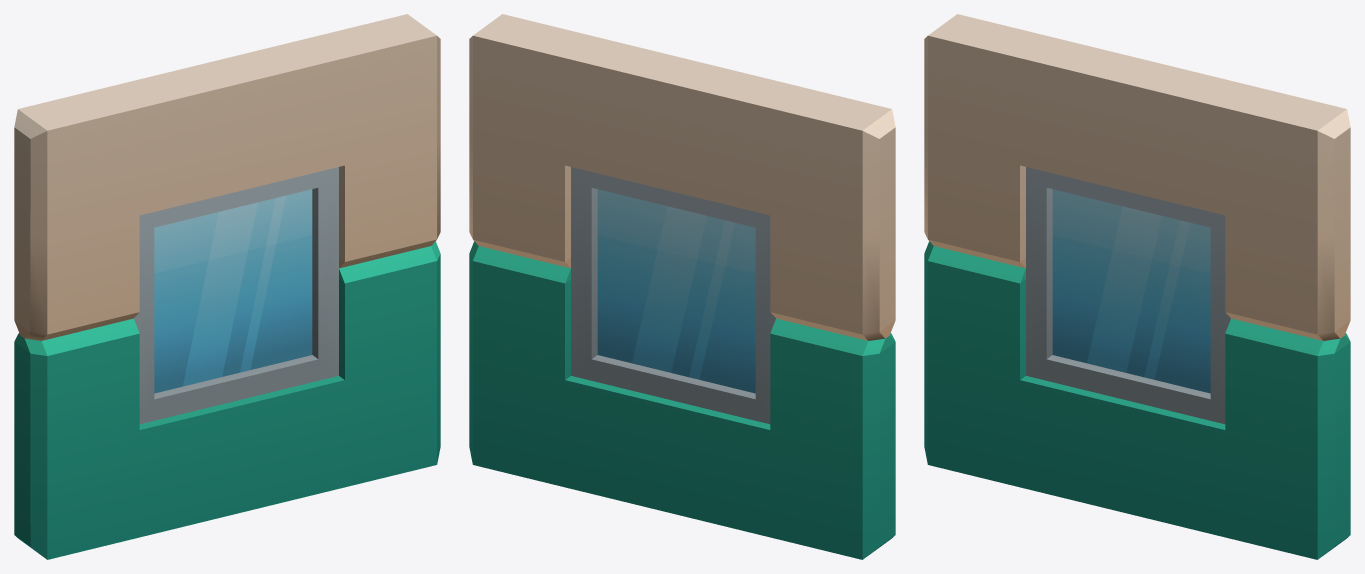
Rendered from wall_window_closed.obj.
3 views of the same model, side by side, from view 1: azimuth 30°, elevation 25°; view 2: azimuth 150°, elevation 25°; view 3: azimuth 330°, elevation 25° (orthographic).
Visible parts, largest first — view 1: wall_window_closed_Cube.265; view 2: wall_window_closed_Cube.265; view 3: wall_window_closed_Cube.265.
Boxes of the visible parts, bbox=[...] form: wall_window_closed_Cube.265: bbox=[14, 14, 440, 559]; wall_window_closed_Cube.265: bbox=[469, 14, 895, 559]; wall_window_closed_Cube.265: bbox=[924, 14, 1350, 559].
Bounding box in the file's own units: 4 × 4 × 0.5.
Materials: 1 (1 with a texture image).
